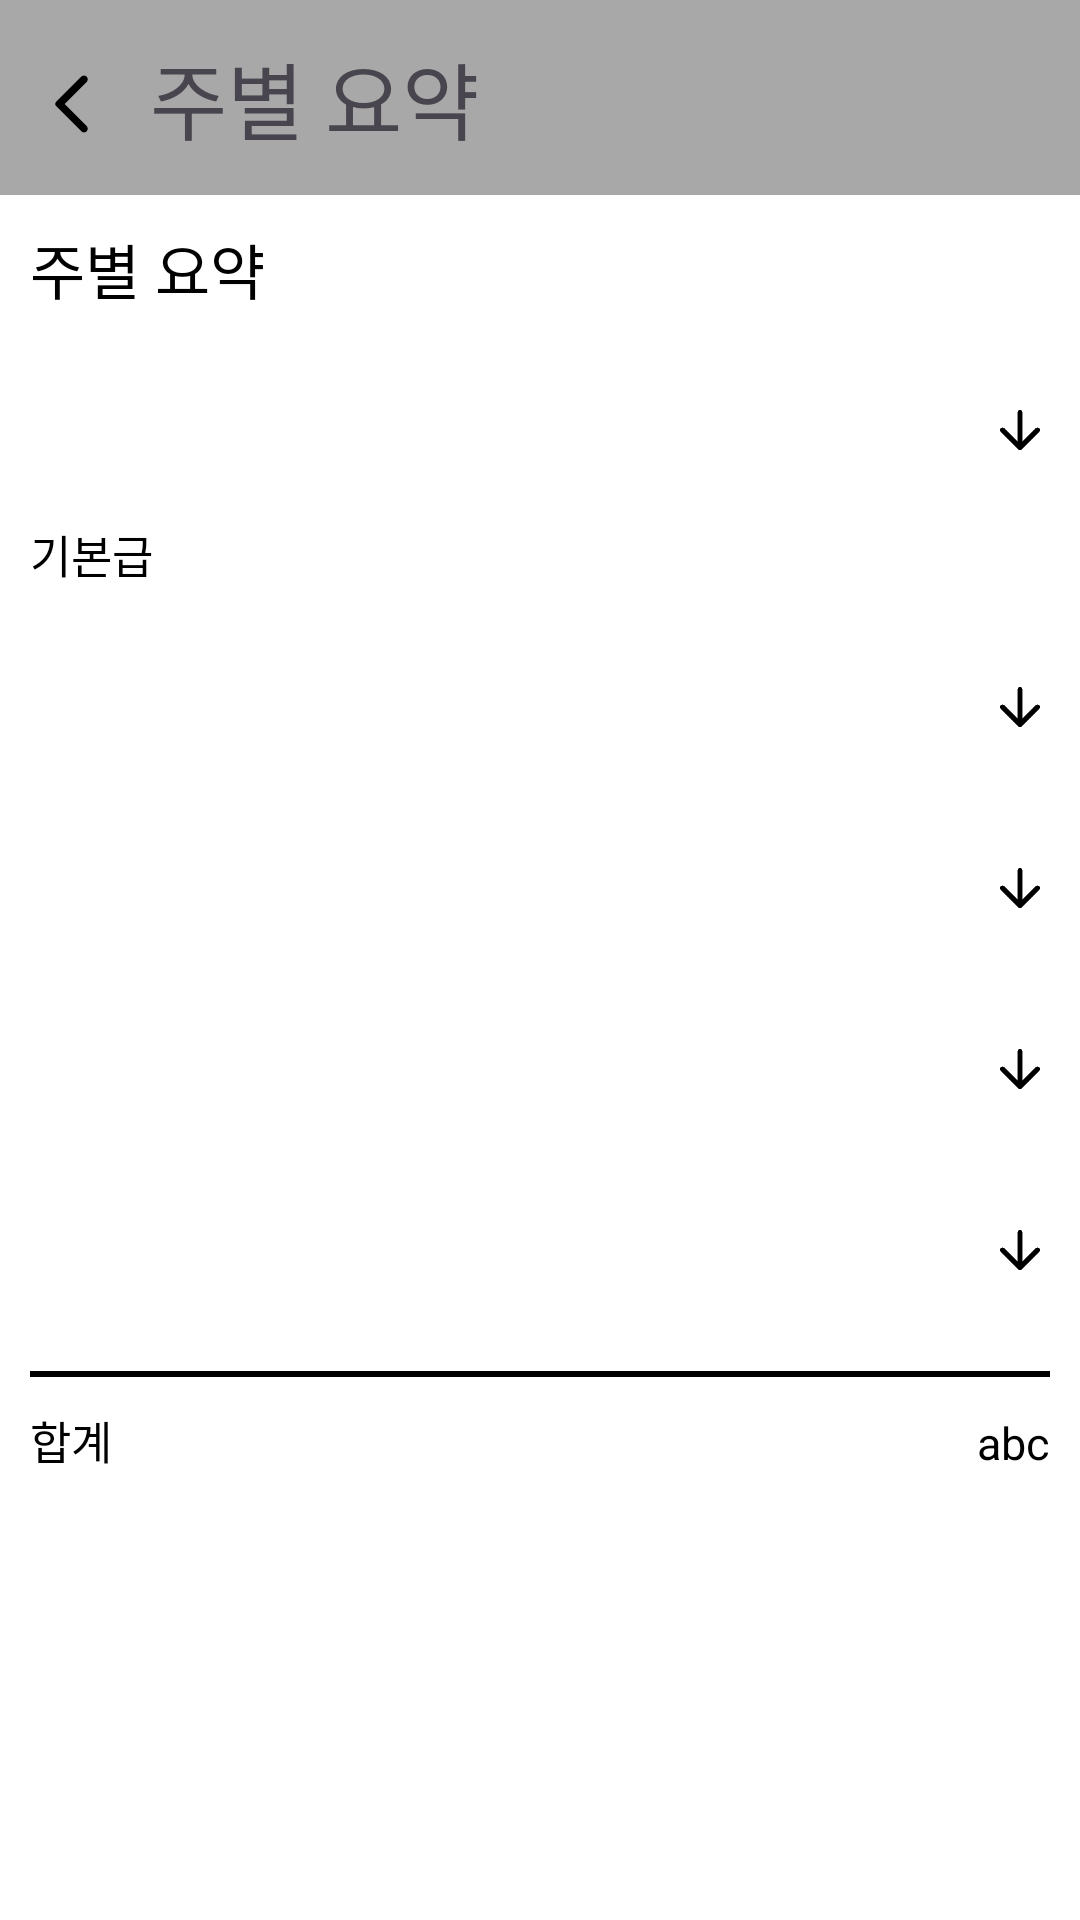

Where icons sit on this 1080px×1920px app screen, as (x1, y1, x2, y2):
back: (55, 75, 88, 133)
